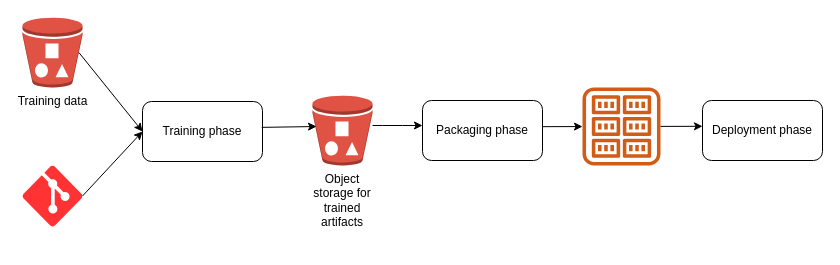
Some shapes in this 840 by 265 pixel diagram are drawn without their labels. The shapes that lost their labels are listed below. From the top down, each one's centre as x and y in pixels, then its label:
At (621,126): "Docker registry".
At (52,195): "Source code".
